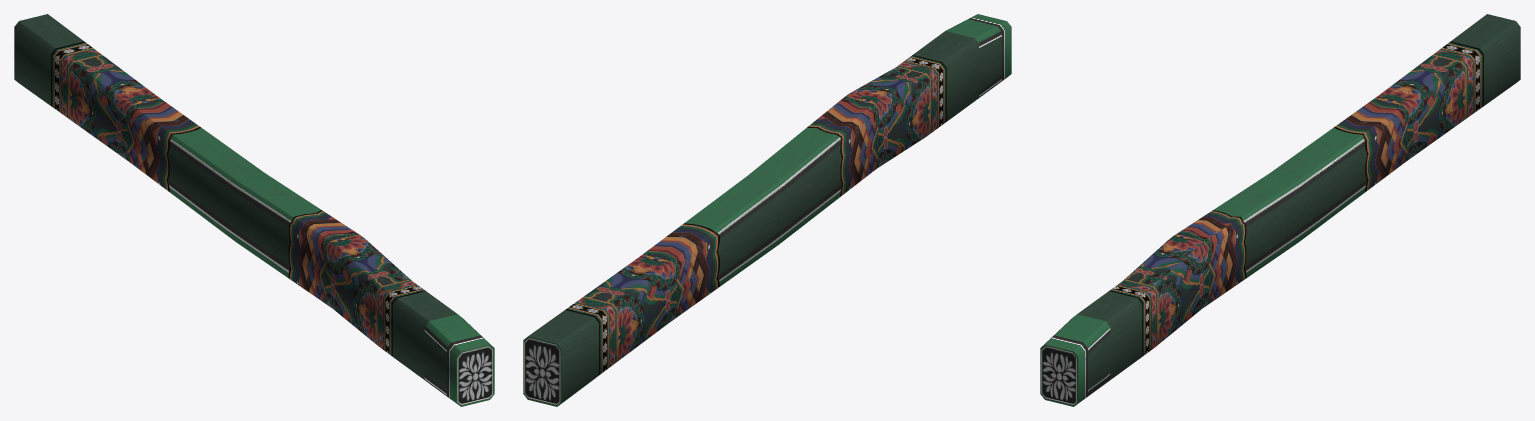
File: SM_Daedeulbo01a.fbx
The picture shows the model from 3 angles, left to right: view 1: azimuth 30°, elevation 25°; view 2: azimuth 150°, elevation 25°; view 3: azimuth 330°, elevation 25°; orthographic projection.
Visible parts, largest first — view 1: SM_Daedeulbo01a; view 2: SM_Daedeulbo01a; view 3: SM_Daedeulbo01a.
Part boxes in pixels (bbox=[...]): SM_Daedeulbo01a: bbox=[14, 14, 494, 406]; SM_Daedeulbo01a: bbox=[523, 14, 1011, 406]; SM_Daedeulbo01a: bbox=[1040, 14, 1520, 406].
Bounding box in the file's own units: 26.88 × 544 × 47.6.
1 material, 1 textured.
